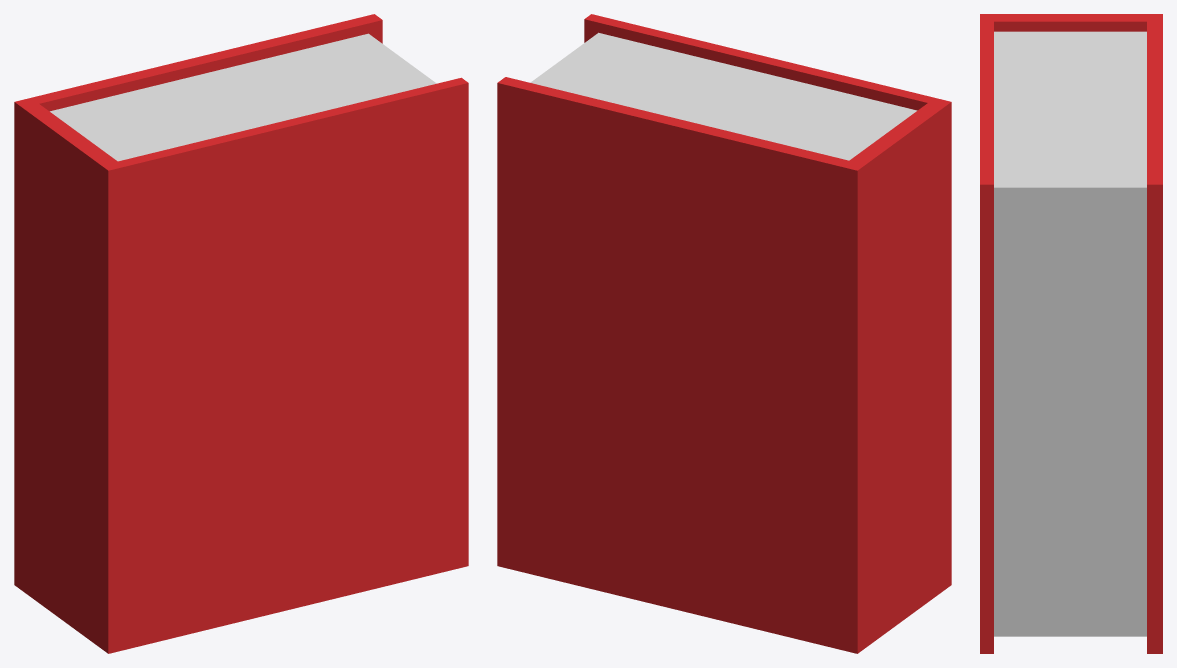
The model's file is ksiazka.fbx.
3 renders of one model, left to right at view 1: azimuth 30°, elevation 25°; view 2: azimuth 150°, elevation 25°; view 3: azimuth 270°, elevation 25°, orthographic. The views are drawn at different scales.
Visible parts, largest first — view 1: Cube.001; view 2: Cube.001; view 3: Cube.001.
Boxes of the visible parts, <box> form: Cube.001: <box>14,14,468,653</box>; Cube.001: <box>497,14,951,653</box>; Cube.001: <box>980,14,1162,653</box>.
Size of the model in its own units: 200 by 256 by 90.5.
